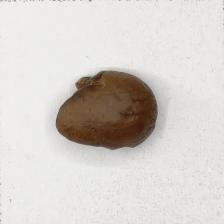NG: (62, 69, 108, 104)
